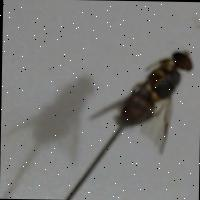Oriental-fruit-fly: (69, 44, 200, 162)
